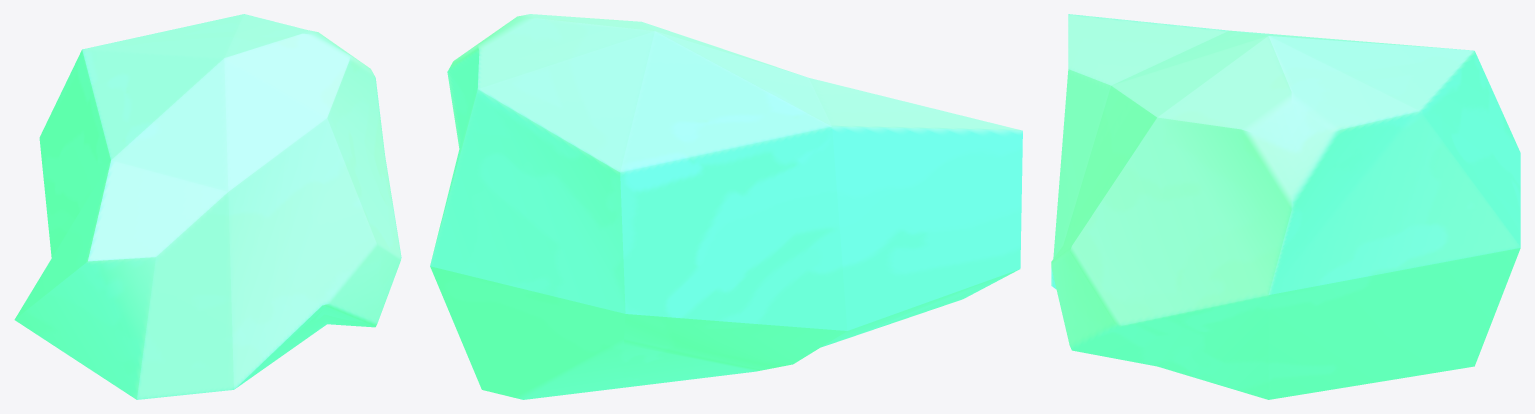
File: OreRock03_Model (1).fbx
3 views of the same model, side by side, from view 1: azimuth 30°, elevation 25°; view 2: azimuth 150°, elevation 25°; view 3: azimuth 270°, elevation 25° (orthographic). The views are drawn at different scales.
Parts seen in each view (by area): view 1: pSphere2; view 2: pSphere2; view 3: pSphere2.
Boxes of the visible parts, x1,y1,x2,y2 form: pSphere2: [14, 14, 401, 399]; pSphere2: [430, 14, 1022, 399]; pSphere2: [1051, 14, 1520, 399].
Size of the model in its own units: 3.19 by 1.81 by 2.59.
